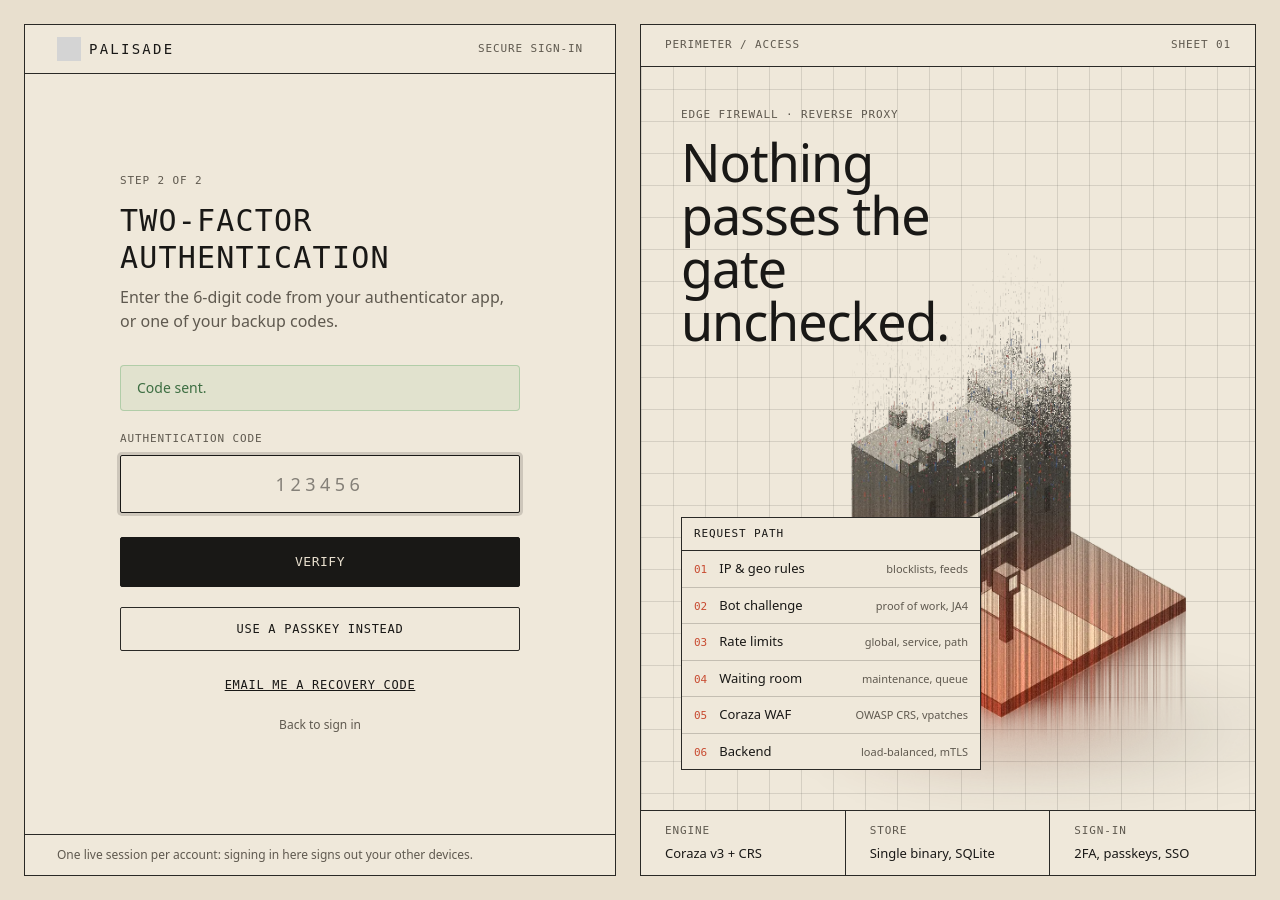
Scenario: login page › submits a 6-digit code by itself; offers passkey and email recovery
Expected: the message reads "Code sent.", [137,378,206,397]
Step 1. Type "1234-ABCD" into the field labelled "Authentication code" → (320, 484), box [120,455,520,513]
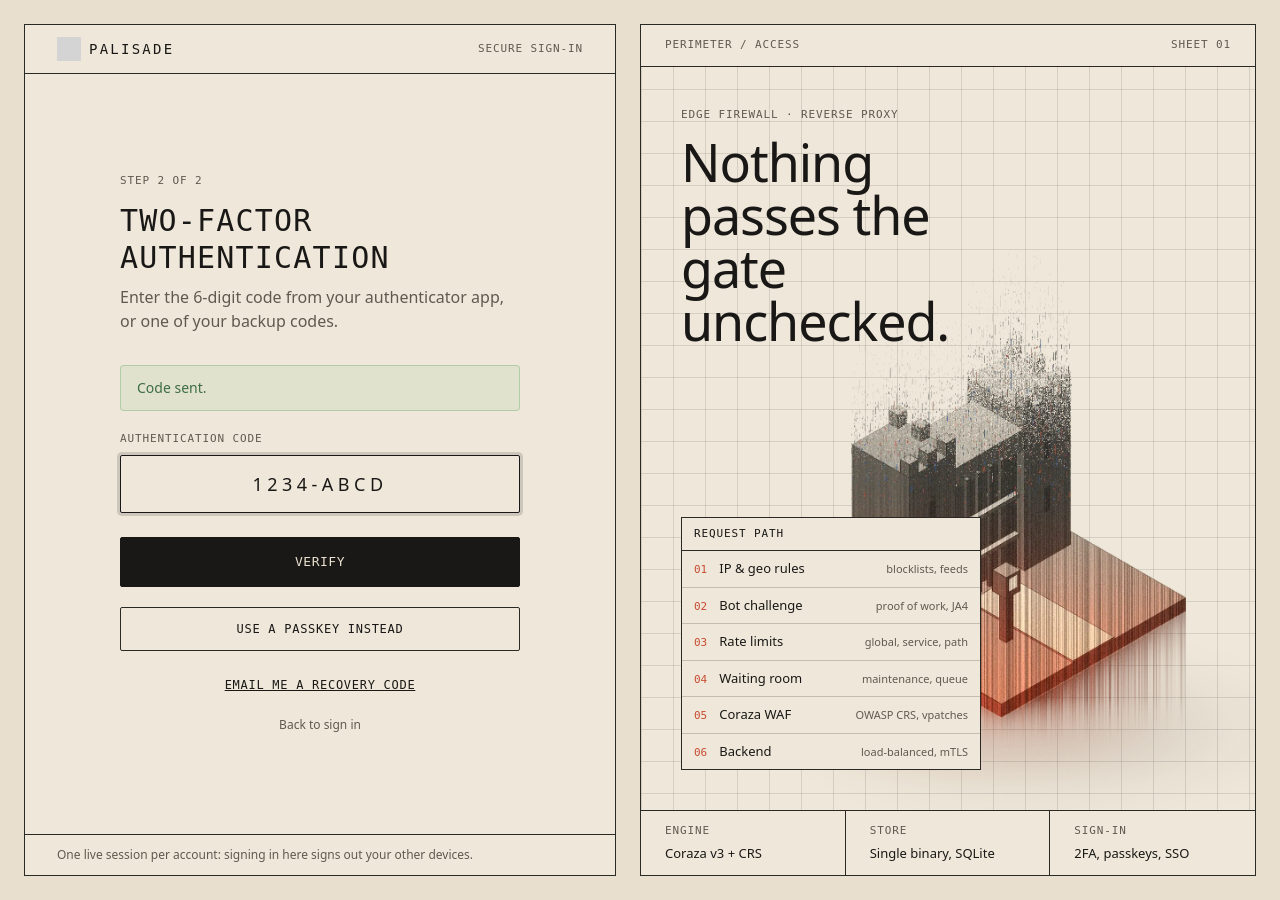
Step 2. Replace the text in the field labelled "Authentication code" with "123 456" → (320, 484), box [120,455,520,513]
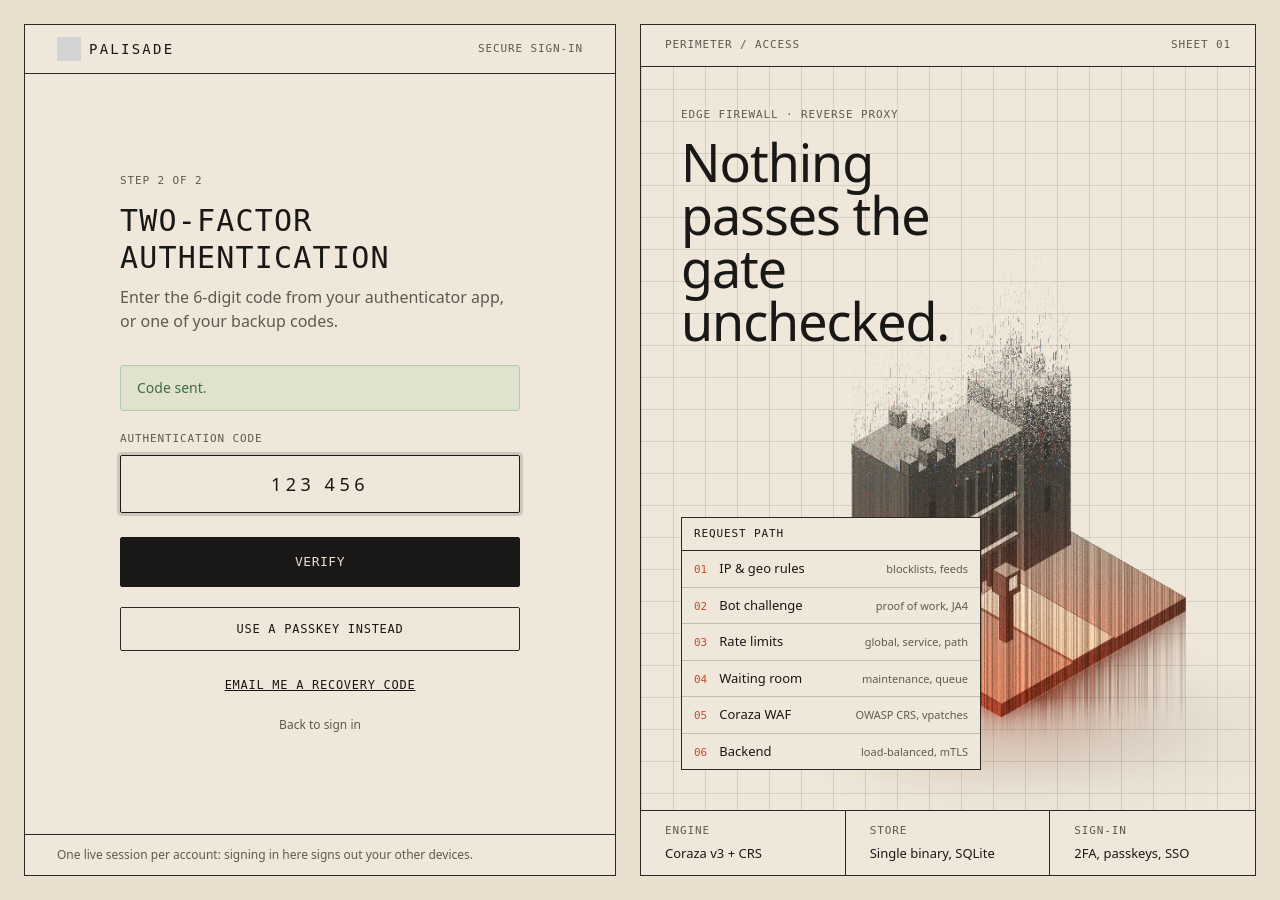
Now the field labelled "Authentication code" has attribute readonly, box [120,455,520,513]
